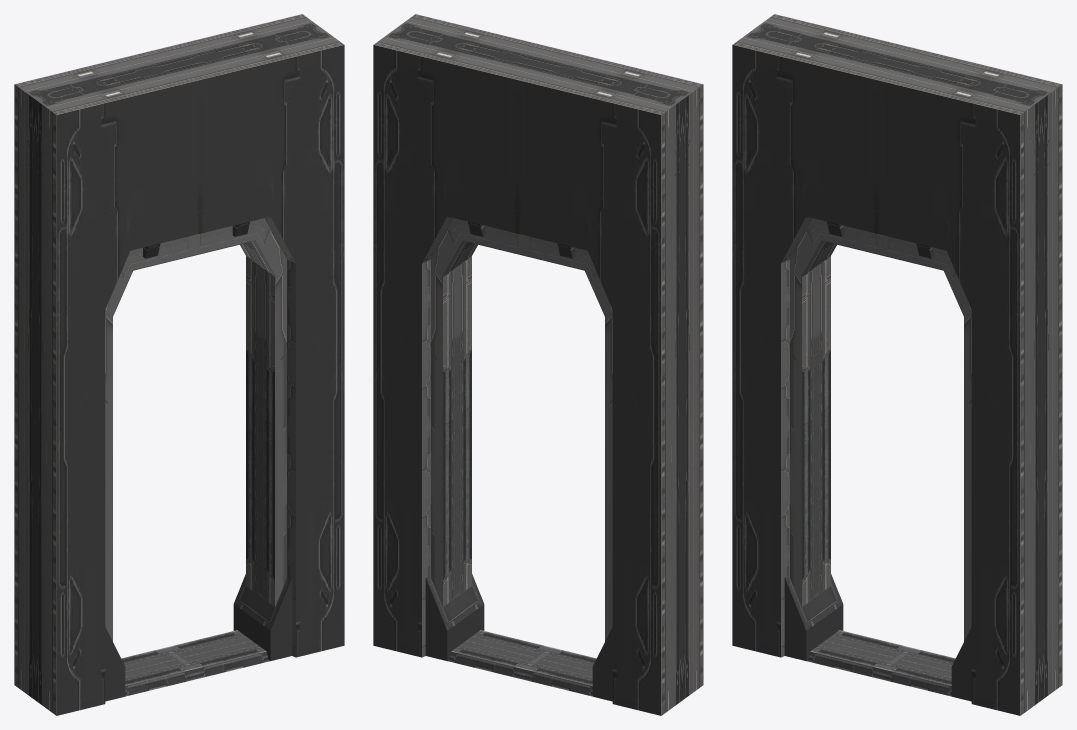
File: fut-portal.gltf
3 views of the same model, side by side, from view 1: azimuth 30°, elevation 25°; view 2: azimuth 150°, elevation 25°; view 3: azimuth 330°, elevation 25° (orthographic).
Parts seen in each view (by area): view 1: Door_Frame_Square; view 2: Door_Frame_Square; view 3: Door_Frame_Square.
Boxes of the visible parts, box(x1,y1,x2,y2) form: Door_Frame_Square: box(14, 14, 344, 715); Door_Frame_Square: box(373, 14, 703, 715); Door_Frame_Square: box(732, 14, 1062, 715).
Size of the model in its own units: 1 by 2 by 0.2534.
Materials: 1 (1 with a texture image).
